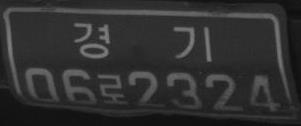0: (23, 66, 60, 103)
2: (204, 72, 244, 112), (129, 69, 164, 108)
3: (165, 71, 201, 110)
4: (248, 73, 280, 112)
6: (61, 67, 97, 105)
경기_D: (72, 22, 213, 63)
로: (97, 73, 128, 106)
